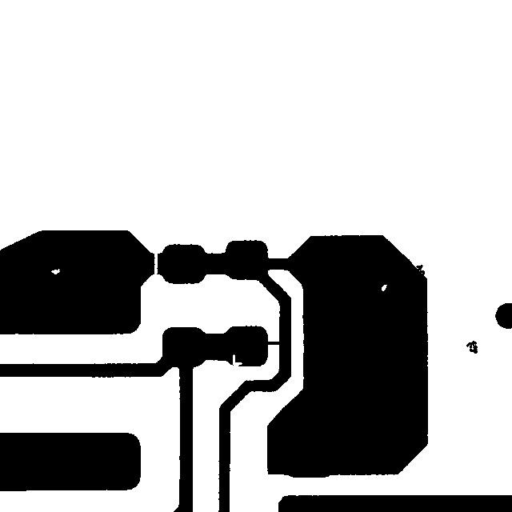copper: (458, 333, 485, 361)
mousebite: (225, 346, 250, 374)
open: (146, 242, 166, 282)
pin-hole: (43, 261, 67, 282), (374, 278, 394, 298)
short: (258, 334, 288, 352)
spur: (408, 257, 432, 284)
